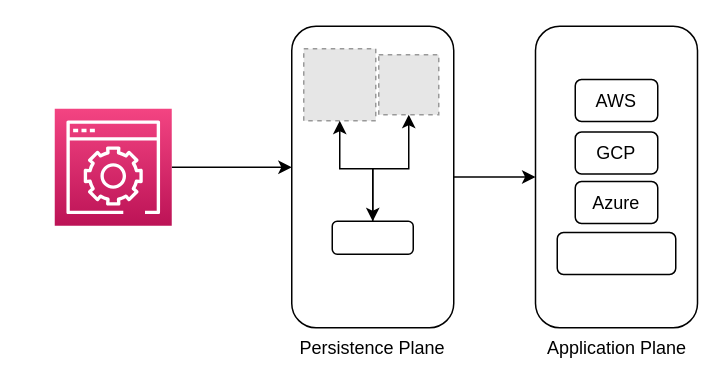
Some shapes in this 725 by 386 pixel diagram are drawn without their labels. Grey dashed boxes stand in for pictures. Here are the shapes that lost their labels. From the top down, the centre of each, then its label:
pixel 112 166: Management Console
pixel 372 237: Terraform
pixel 616 252: Any Provider
